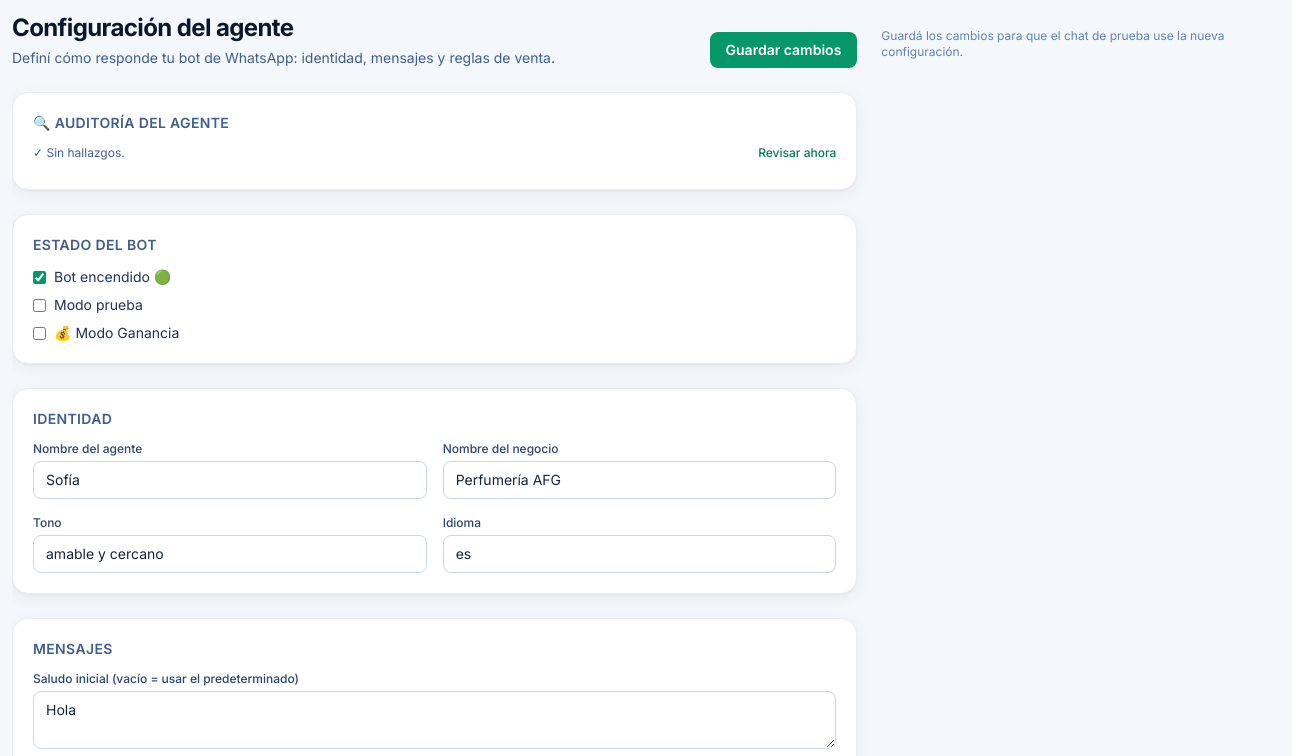
Test: H-03 · guardar la configuración del agente dice qué pasó › si el backend rechaza (400 por reglas demasiado largas), la pantalla LO DICE
This screenshot has width=1292, height=756.
Expected: the field showing "Sofía" below "Nombre del agente" is shown, [33,461,427,499]
Step 1. Click the button "Guardar cambios" → (784, 50), box [710,32,857,68]
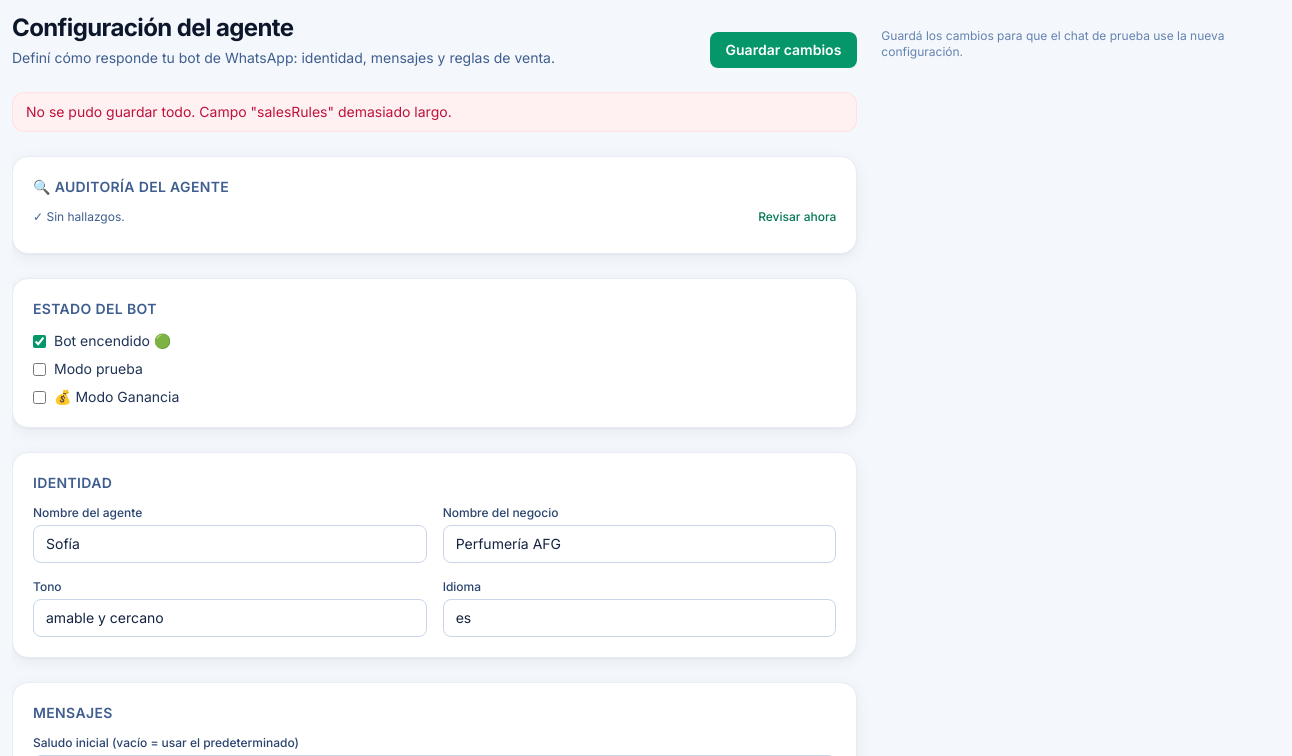
Result: the message shows "No se pudo guardar" at [26,103,452,120]
Result: the message shows "demasiado largo" at [26,103,452,120]
